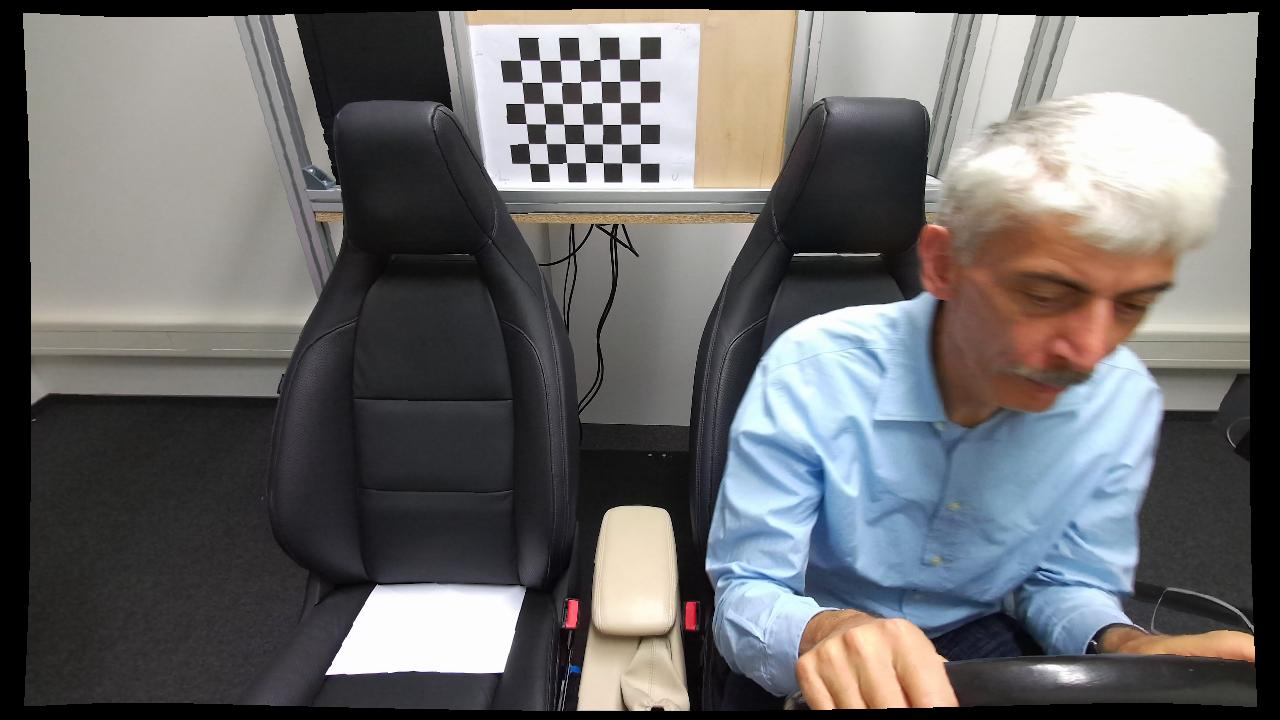Distracted: (700, 88, 1236, 711)
